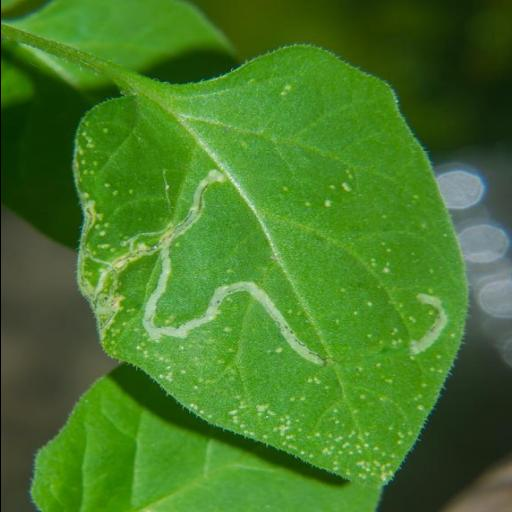Leaf Miner: (70, 46, 474, 490)
